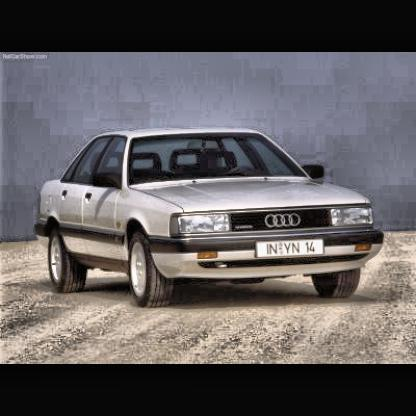Audi 100 Sedan 1994: (37, 128, 387, 310)
